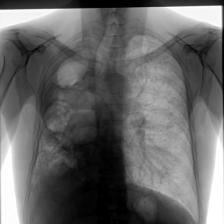tuberculosis: (19, 22, 204, 224)
